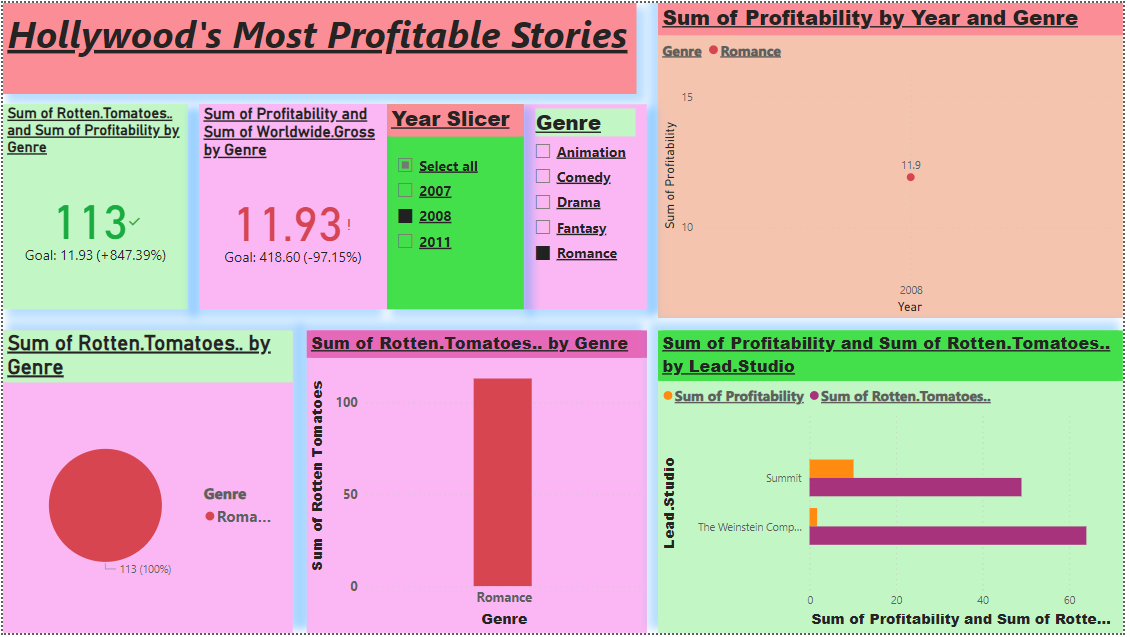

This screenshot's page, from the dashboard's own definition file:
{"tool":"powerbi","page":{"name":"Hollywoods Most Profitable Stories","canvas":[1280,720],"ordinal":0},"visuals":[{"type":"clusteredColumnChart","fields":{"Category":["clean_df.Genre"],"Y":["Sum(clean_df.Rotten.Tomatoes..)"]},"box":[347.1,374.3,388.6,345.7],"z":0},{"type":"lineChart","fields":{"Category":["clean_df.Year"],"Y":["Sum(clean_df.Profitability)"],"Series":["clean_df.Genre"]},"box":[748.6,0,531.4,360],"z":1},{"type":"textbox","box":[0,0,724.3,104.3],"z":2},{"type":"pieChart","fields":{"Series":["clean_df.Genre"],"Y":["Sum(clean_df.Rotten.Tomatoes..)"]},"box":[0,374.3,331.4,345.7],"z":3},{"type":"slicer","fields":{"Values":["clean_df.Genre"]},"box":[595.7,115.7,140,234.3],"z":4},{"type":"slicer","title":"Year Slicer","fields":{"Values":["clean_df.Year"]},"box":[438.6,115.7,157.1,234.3],"z":5},{"type":"kpi","fields":{"Indicator":["Sum(clean_df.Rotten.Tomatoes..)"],"Goal":["Sum(clean_df.Profitability)"],"TrendLine":["clean_df.Genre"]},"box":[0,115.7,211.4,234.3],"z":6},{"type":"kpi","fields":{"TrendLine":["clean_df.Genre"],"Indicator":["Sum(clean_df.Profitability)"],"Goal":["Sum(clean_df.Worldwide.Gross)"]},"box":[224.3,115.7,214.3,234.3],"z":7},{"type":"clusteredBarChart","fields":{"Category":["clean_df.Lead.Studio"],"Y":["Sum(clean_df.Profitability)","Sum(clean_df.Rotten.Tomatoes..)"]},"box":[748.6,374.3,531.4,345.7],"z":8}]}

Visuals, with their boxes in screenshot pixels (x1, y1, x2, y2), scaled from the page's 1280x720 canvas onto the 1130x637 screenshot:
clusteredColumnChart - clean_df.Genre x Sum(clean_df.Rotten.Tomatoes..): BBox(306, 331, 649, 636)
lineChart - clean_df.Year x Sum(clean_df.Profitability): BBox(661, 0, 1129, 318)
textbox: BBox(0, 0, 639, 92)
pieChart - clean_df.Genre x Sum(clean_df.Rotten.Tomatoes..): BBox(0, 331, 293, 636)
slicer - clean_df.Genre: BBox(526, 102, 649, 310)
"Year Slicer" slicer: BBox(387, 102, 526, 310)
kpi - Sum(clean_df.Rotten.Tomatoes..) x Sum(clean_df.Profitability): BBox(0, 102, 187, 310)
kpi - clean_df.Genre x Sum(clean_df.Profitability): BBox(198, 102, 387, 310)
clusteredBarChart - clean_df.Lead.Studio x Sum(clean_df.Profitability): BBox(661, 331, 1129, 636)
